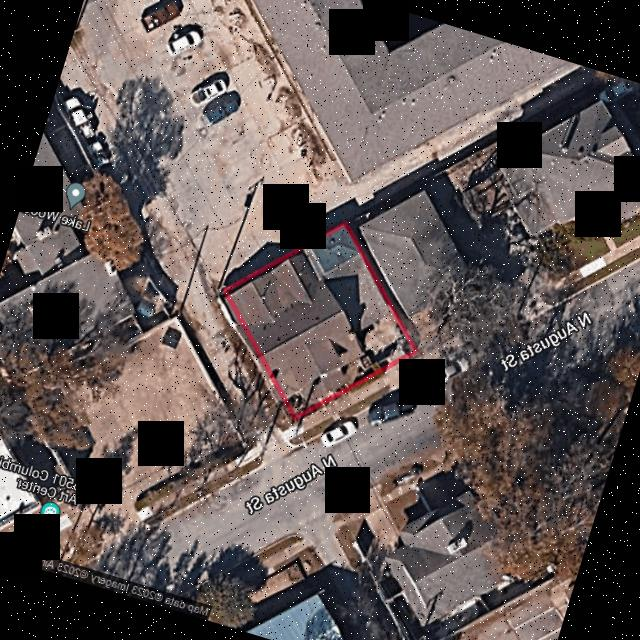Driveway: (354, 315, 404, 363)
Extra Driveway: (384, 358, 420, 393)
Extra Lawn: (337, 384, 390, 421), (332, 371, 385, 400), (301, 417, 334, 441), (409, 364, 429, 378), (408, 353, 419, 361)
Extra Sidewalk: (294, 375, 389, 433), (408, 356, 424, 372)
House: (229, 250, 373, 414)
Other: (306, 228, 391, 331), (401, 338, 410, 352)
